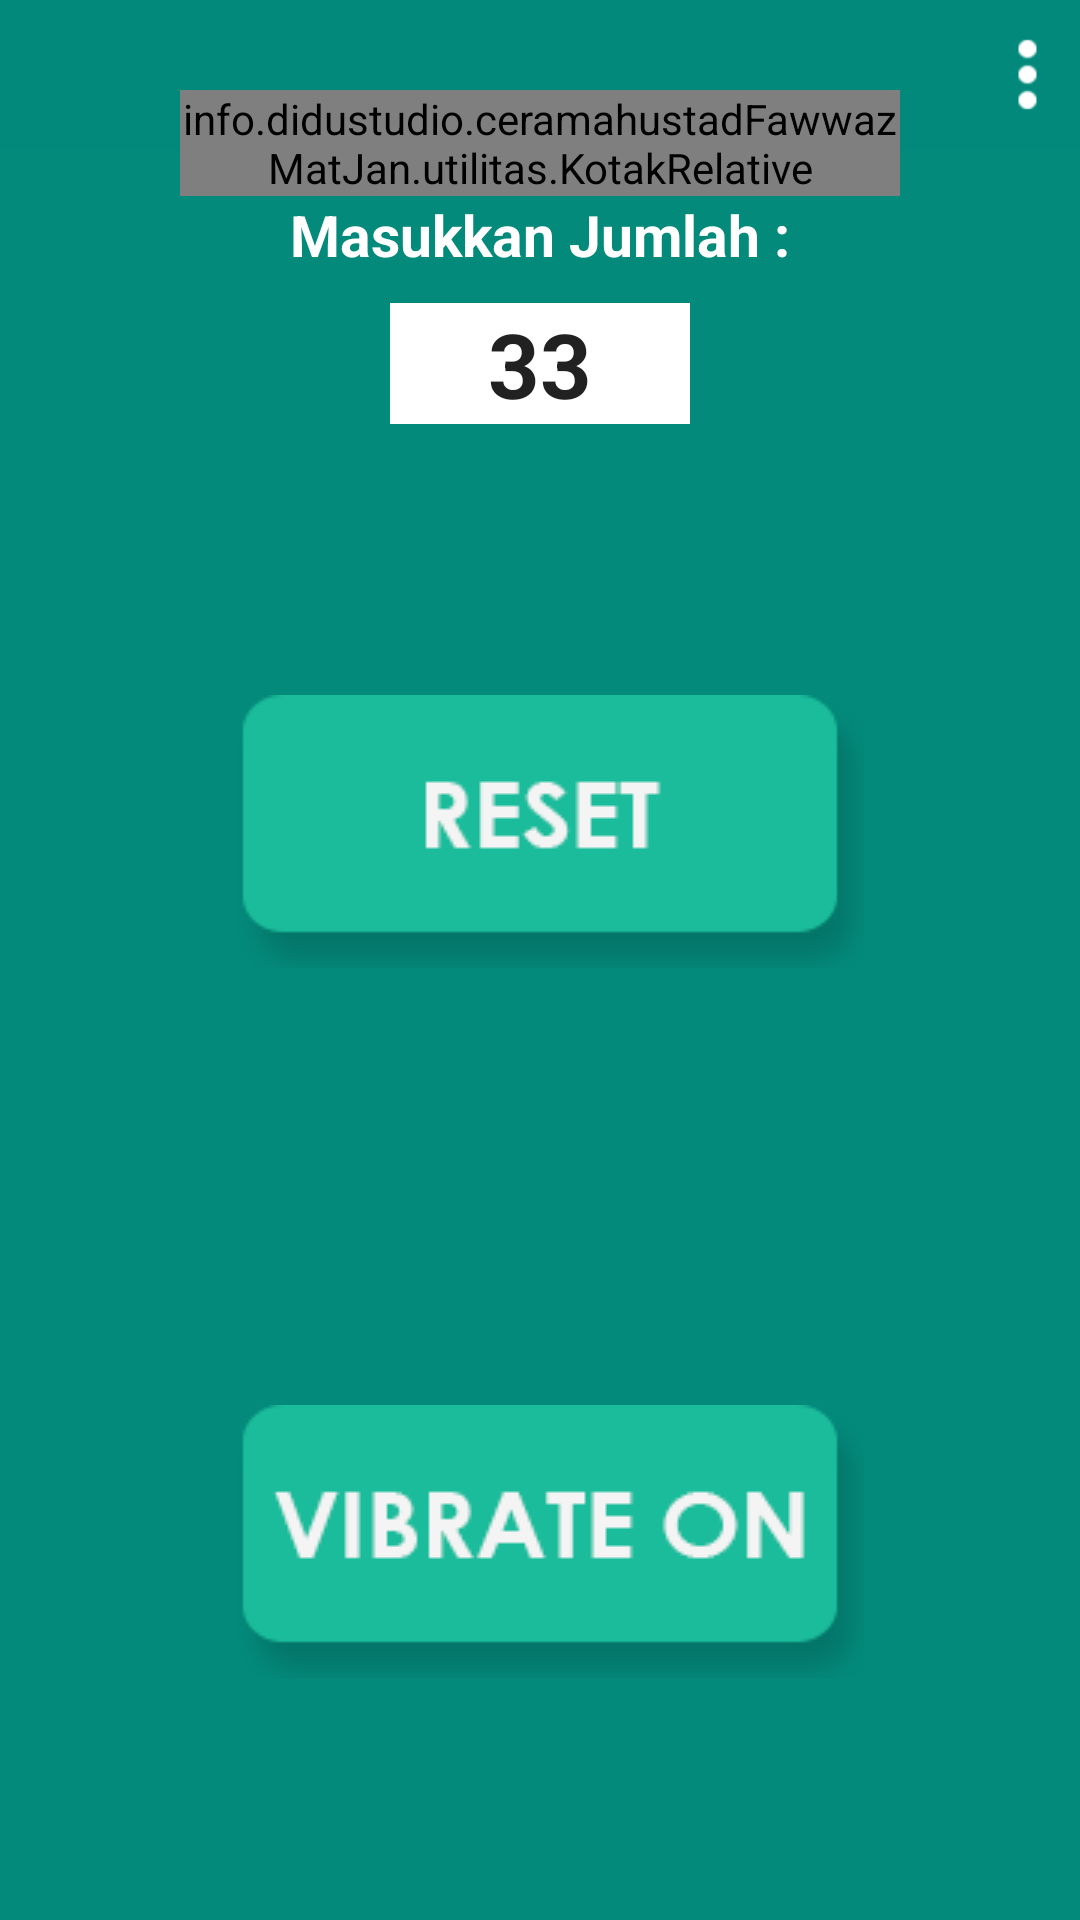

Named icons in this screenshot (1080px×1920px) and their centers, (x,y):
three dots: (1027,74)
